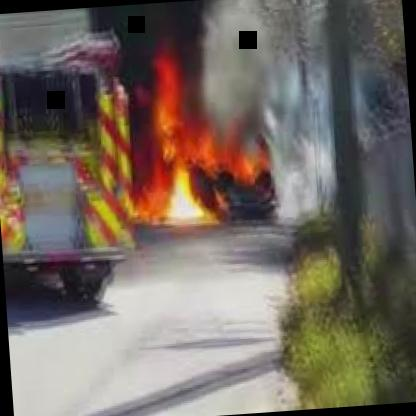fire: (108, 77, 264, 227)
